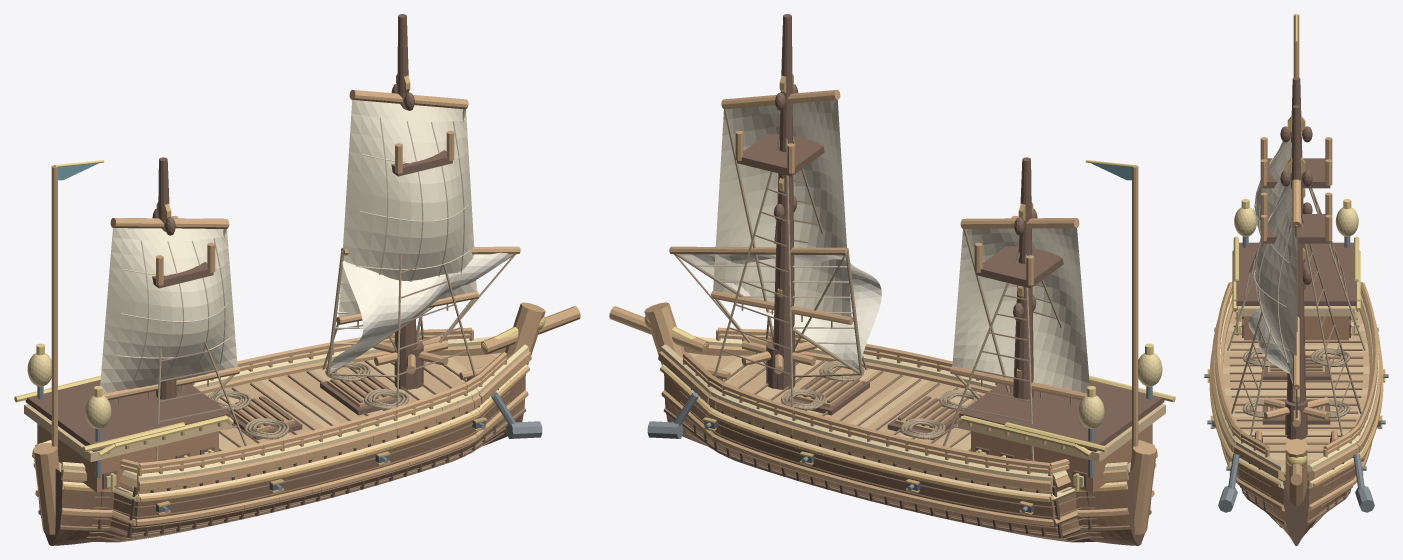
Rendered from new_england_ketch-v5.glb.
3 renders of one model, left to right at view 1: azimuth 30°, elevation 25°; view 2: azimuth 150°, elevation 25°; view 3: azimuth 270°, elevation 25°, orthographic. The views are drawn at different scales.
Visible parts, largest first — view 1: new_england_ketch_sails_sail, new_england_ketch_hull_wood, new_england_ketch_hull_hull, new_england_ketch_railings_wood, new_england_ketch_hull_pale, new_england_ketch_deck_darkwood, new_england_ketch_hull_seam, new_england_ketch_sails_sailbright, new_england_ketch_hull_deck, new_england_ketch_masts_darkwood, new_england_ketch_rigging_wood, new_england_ketch_hull_hull2 (+18 smaller); view 2: new_england_ketch_sails_sail, new_england_ketch_hull_wood, new_england_ketch_masts_darkwood, new_england_ketch_hull_hull, new_england_ketch_railings_wood, new_england_ketch_deck_darkwood, new_england_ketch_hull_seam, new_england_ketch_hull_pale, new_england_ketch_rigging_wood, new_england_ketch_sails_sailbright, new_england_ketch_hull_deck, new_england_ketch_hull_hull2 (+18 smaller); view 3: new_england_ketch_sails_sail, new_england_ketch_hull_wood, new_england_ketch_masts_darkwood, new_england_ketch_hull_deck, new_england_ketch_deck_darkwood, new_england_ketch_hull_seam, new_england_ketch_railings_wood, new_england_ketch_hull_decklight, new_england_ketch_masts_rope, new_england_ketch_hull_pale, new_england_ketch_masts_wood, new_england_ketch_fittings_darkwood (+20 smaller).
Part boxes in pixels (<box>): new_england_ketch_sails_sail: <box>100,100,476,393</box>; new_england_ketch_hull_wood: <box>32,302,580,534</box>; new_england_ketch_hull_hull: <box>56,374,525,542</box>; new_england_ketch_railings_wood: <box>120,327,507,485</box>; new_england_ketch_hull_pale: <box>34,336,528,501</box>; new_england_ketch_deck_darkwood: <box>25,380,230,489</box>; new_england_ketch_hull_seam: <box>38,360,526,541</box>; new_england_ketch_sails_sailbright: <box>330,252,511,370</box>; new_england_ketch_hull_deck: <box>59,354,495,464</box>; new_england_ketch_masts_darkwood: <box>152,14,452,399</box>; new_england_ketch_rigging_wood: <box>102,89,520,400</box>; new_england_ketch_hull_hull2: <box>60,351,525,534</box>; new_england_ketch_sails_sail: <box>713,100,1089,393</box>; new_england_ketch_hull_wood: <box>609,302,1157,534</box>; new_england_ketch_masts_darkwood: <box>737,14,1063,399</box>; new_england_ketch_hull_hull: <box>664,374,1133,542</box>; new_england_ketch_railings_wood: <box>682,327,1069,485</box>; new_england_ketch_deck_darkwood: <box>959,380,1164,489</box>; new_england_ketch_hull_seam: <box>663,360,1151,541</box>; new_england_ketch_hull_pale: <box>661,336,1155,501</box>; new_england_ketch_rigging_wood: <box>669,89,1087,400</box>; new_england_ketch_sails_sailbright: <box>681,254,881,370</box>; new_england_ketch_hull_deck: <box>694,354,1130,464</box>; new_england_ketch_hull_hull2: <box>664,351,1129,534</box>; new_england_ketch_sails_sail: <box>1255,132,1296,390</box>; new_england_ketch_hull_wood: <box>1211,302,1381,511</box>; new_england_ketch_masts_darkwood: <box>1262,77,1330,402</box>; new_england_ketch_hull_deck: <box>1223,309,1369,465</box>; new_england_ketch_deck_darkwood: <box>1236,242,1356,337</box>; new_england_ketch_hull_seam: <box>1226,317,1367,527</box>; new_england_ketch_railings_wood: <box>1214,282,1378,457</box>; new_england_ketch_hull_decklight: <box>1223,323,1369,459</box>; new_england_ketch_masts_rope: <box>1227,170,1365,436</box>; new_england_ketch_hull_pale: <box>1214,294,1378,488</box>; new_england_ketch_masts_wood: <box>1260,137,1332,241</box>; new_england_ketch_fittings_darkwood: <box>1254,356,1338,442</box>.
Size of the model in its own units: 41.19 by 32.75 by 13.79.
